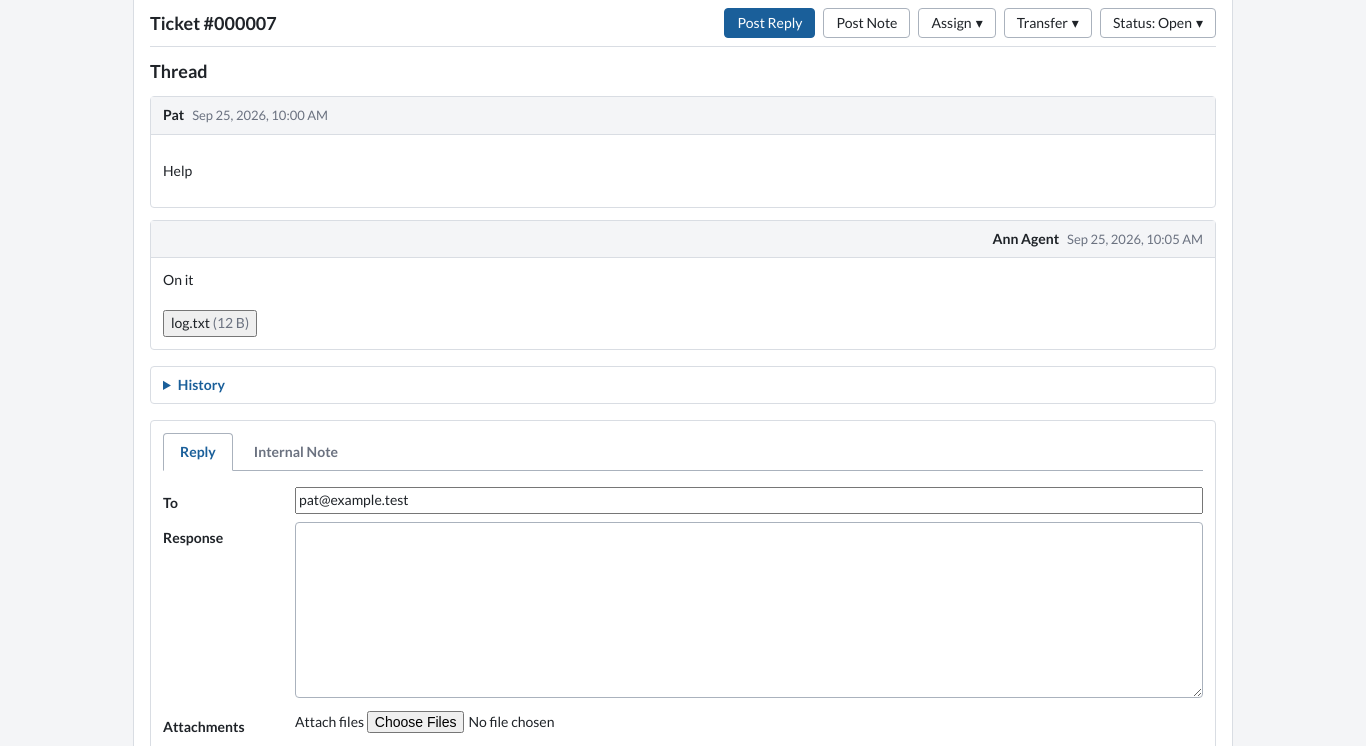
Scenario: keeps History collapsed until it is opened
(page scrolled)
expect the text "created" is not shown: met
Click the heading "History" at coordinates (201, 384), box [178,376,225,393]
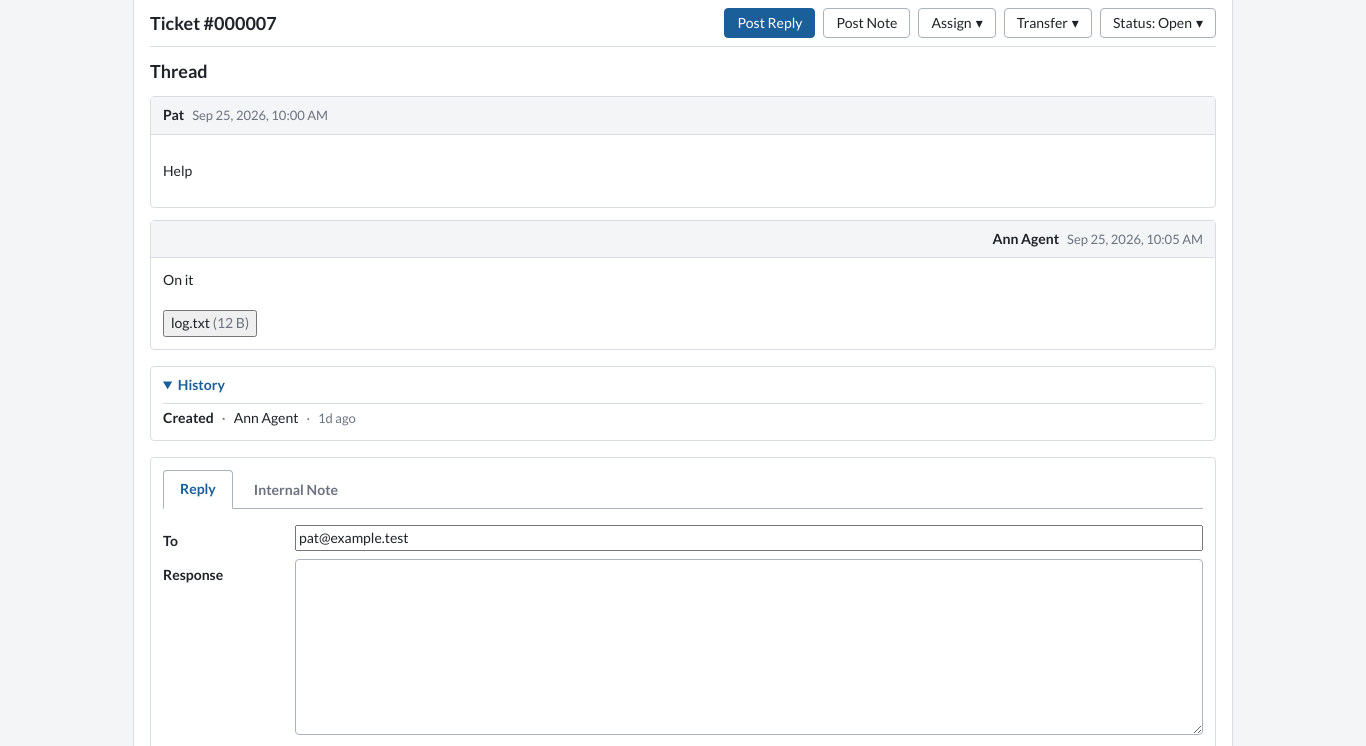
expect the text "created" is shown: met, box [163,408,214,428]
